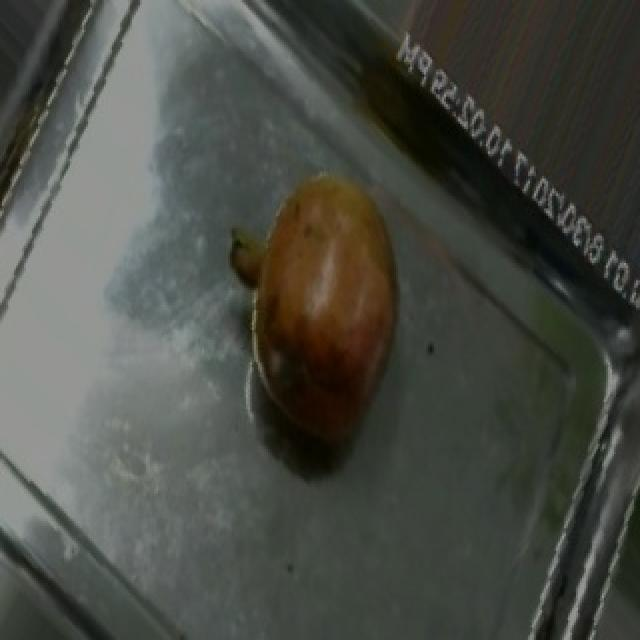fruit: (200, 142, 428, 452)
